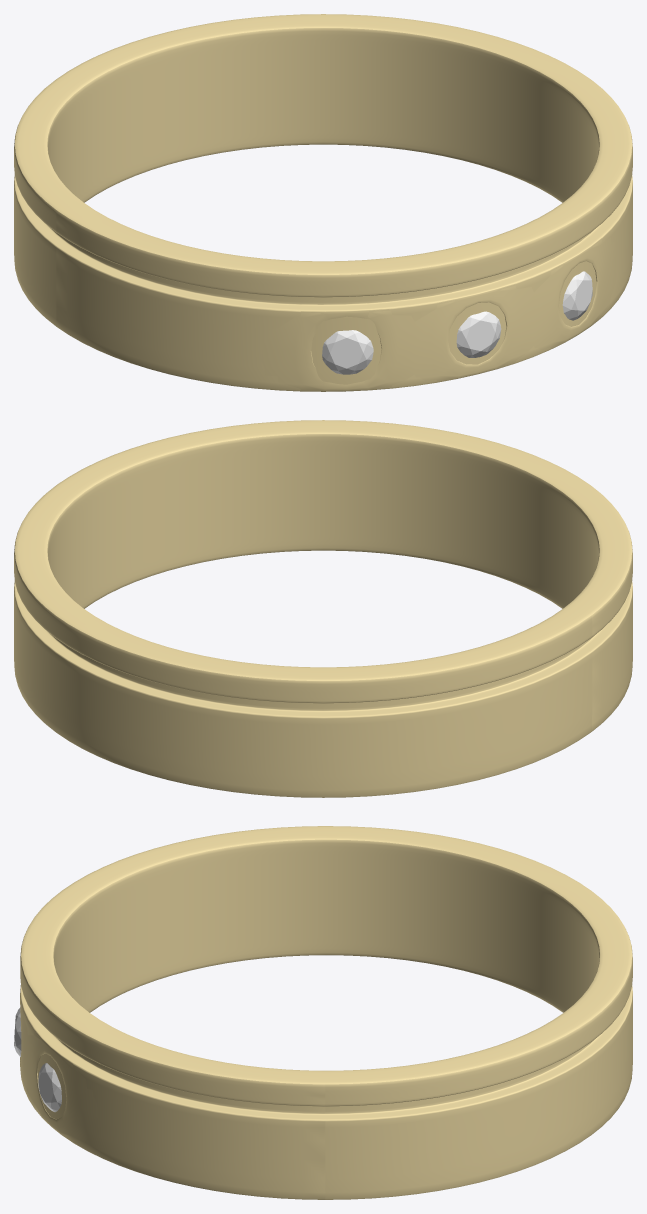
3 views of the same model, one above another, from view 1: azimuth 30°, elevation 25°; view 2: azimuth 150°, elevation 25°; view 3: azimuth 270°, elevation 25° (orthographic).
Parts seen in each view (by area): view 1: Engraving_Metal, Base_Metal_NoDiamond, Base_Metal, Diamond_Metal; view 2: Base_Metal, Engraving_Metal, Base_Metal_NoDiamond; view 3: Base_Metal, Engraving_Metal, Base_Metal_NoDiamond, Diamond_Metal.
Boxes of the visible parts, left/top/right/bottom form: Engraving_Metal: left=47, top=29, right=599, bottom=202; Base_Metal_NoDiamond: left=50, top=72, right=632, bottom=391; Base_Metal: left=14, top=14, right=629, bottom=391; Diamond_Metal: left=322, top=271, right=592, bottom=374; Base_Metal: left=14, top=426, right=629, bottom=797; Engraving_Metal: left=47, top=435, right=599, bottom=608; Base_Metal_NoDiamond: left=57, top=420, right=632, bottom=731; Base_Metal: left=20, top=826, right=632, bottom=1199; Engraving_Metal: left=53, top=840, right=599, bottom=1012; Base_Metal_NoDiamond: left=20, top=826, right=348, bottom=1199; Diamond_Metal: left=14, top=1007, right=61, bottom=1112.
Size of the model in its own units: 2.14 by 0.45 by 2.16.
